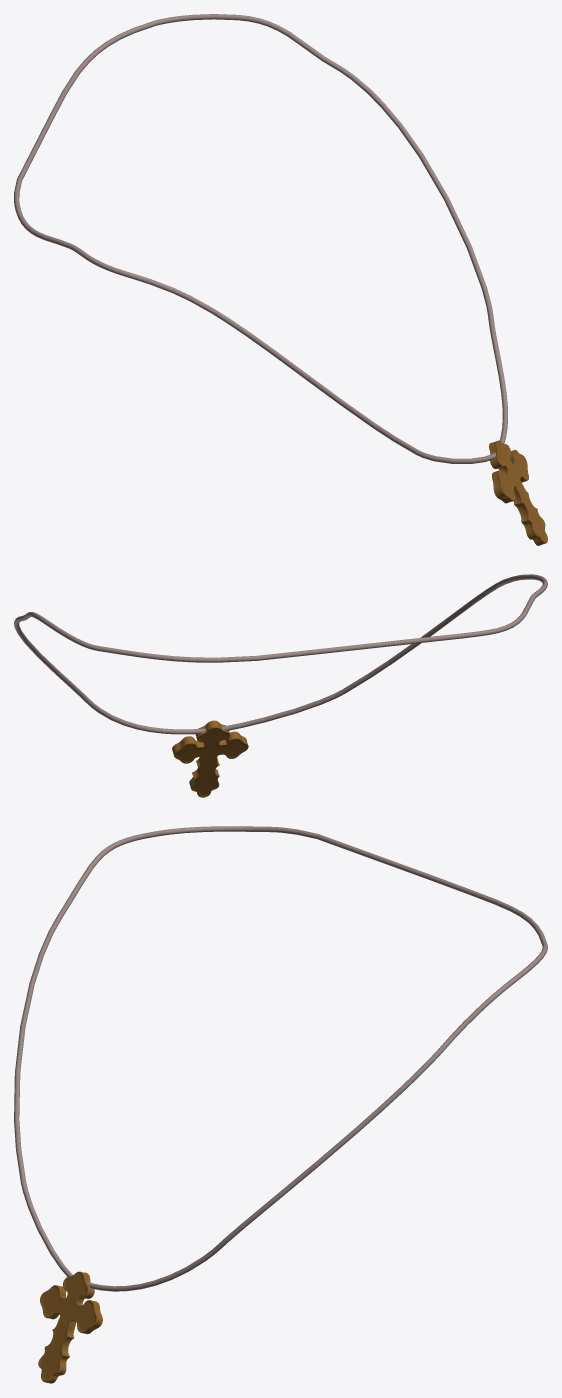
File: COSSACK_CROSS_2#30.glb
The picture shows the model from 3 angles, top to bottom: view 1: azimuth 30°, elevation 25°; view 2: azimuth 150°, elevation 25°; view 3: azimuth 270°, elevation 25°; orthographic projection. The views are drawn at different scales.
Parts seen in each view (by area): view 1: krest.2-Material.23, krest.2-metal1; view 2: krest.2-Material.23, krest.2-metal1; view 3: krest.2-Material.23, krest.2-metal1.
Boxes of the visible parts, x1,y1,x2,y2 form: krest.2-Material.23: [14, 14, 507, 463]; krest.2-metal1: [489, 440, 547, 545]; krest.2-Material.23: [14, 574, 547, 734]; krest.2-metal1: [172, 720, 248, 797]; krest.2-Material.23: [14, 826, 547, 1291]; krest.2-metal1: [38, 1271, 102, 1383].
Bounding box in the file's own units: 1.99 × 1.53 × 1.98.
